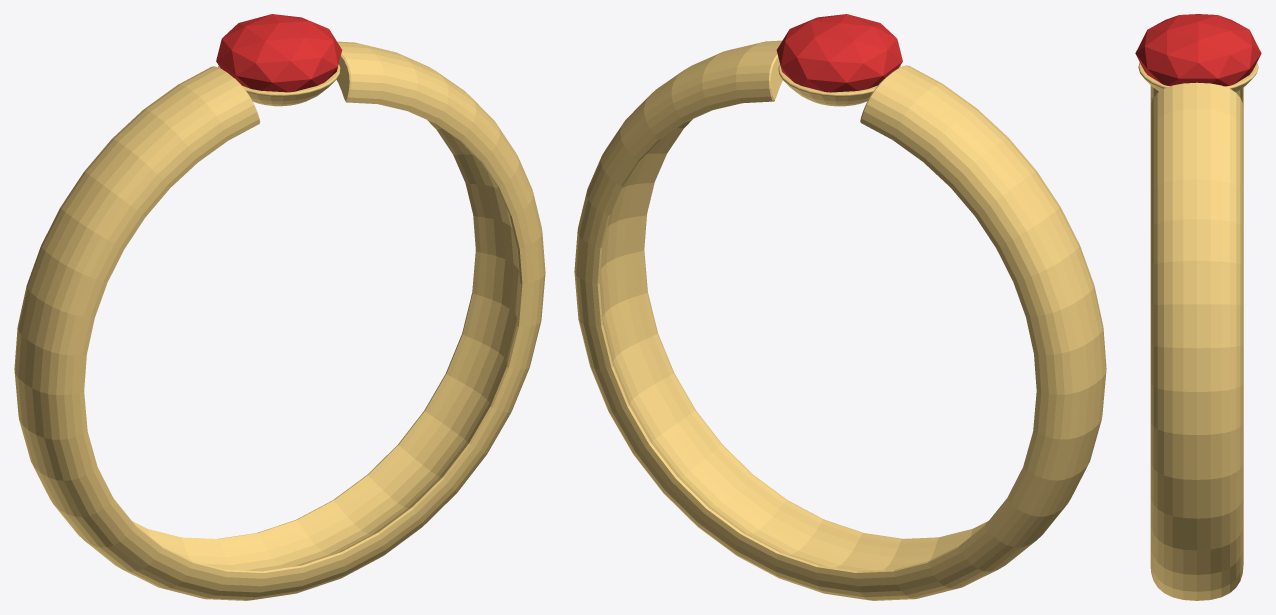
File: c68bce85-929c-442b-b388-ab9d5fd6327c.glb
3 renders of one model, left to right at view 1: azimuth 30°, elevation 25°; view 2: azimuth 150°, elevation 25°; view 3: azimuth 270°, elevation 25°, orthographic. The views are drawn at different scales.
Parts seen in each view (by area): view 1: 1, stone, 2; view 2: 1, stone, 2; view 3: 1, stone, 2.
Part boxes in pixels (x1=…): 1: x1=14, y1=41, x2=545, y2=600; stone: x1=216, y1=14, x2=341, y2=92; 2: x1=218, y1=64, x2=340, y2=106; 1: x1=574, y1=40, x2=1106, y2=600; stone: x1=776, y1=14, x2=902, y2=92; 2: x1=778, y1=64, x2=900, y2=106; 1: x1=1150, y1=82, x2=1243, y2=600; stone: x1=1135, y1=14, x2=1261, y2=86; 2: x1=1138, y1=62, x2=1258, y2=92.
Size of the model in its own units: 140 by 147 by 30.47.
